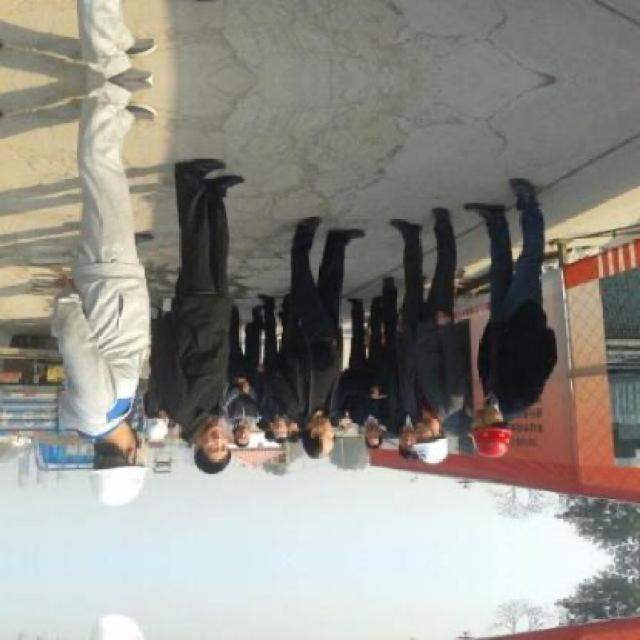con casco: (0, 393, 143, 518), (419, 407, 459, 474), (490, 406, 524, 464)
sin casco: (182, 417, 259, 497), (266, 402, 330, 457), (368, 424, 424, 462)
